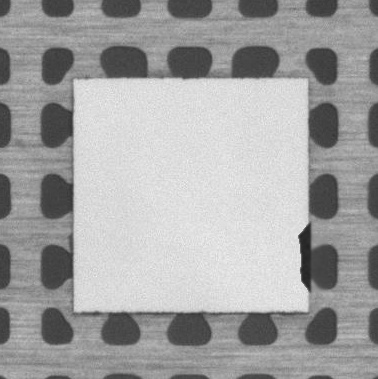DIE_BROKEN: (295, 223, 313, 293)
